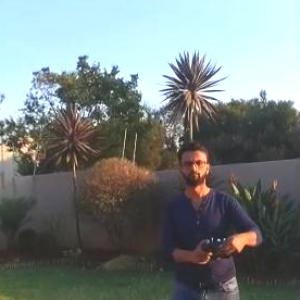follow: (154, 133, 268, 299)
